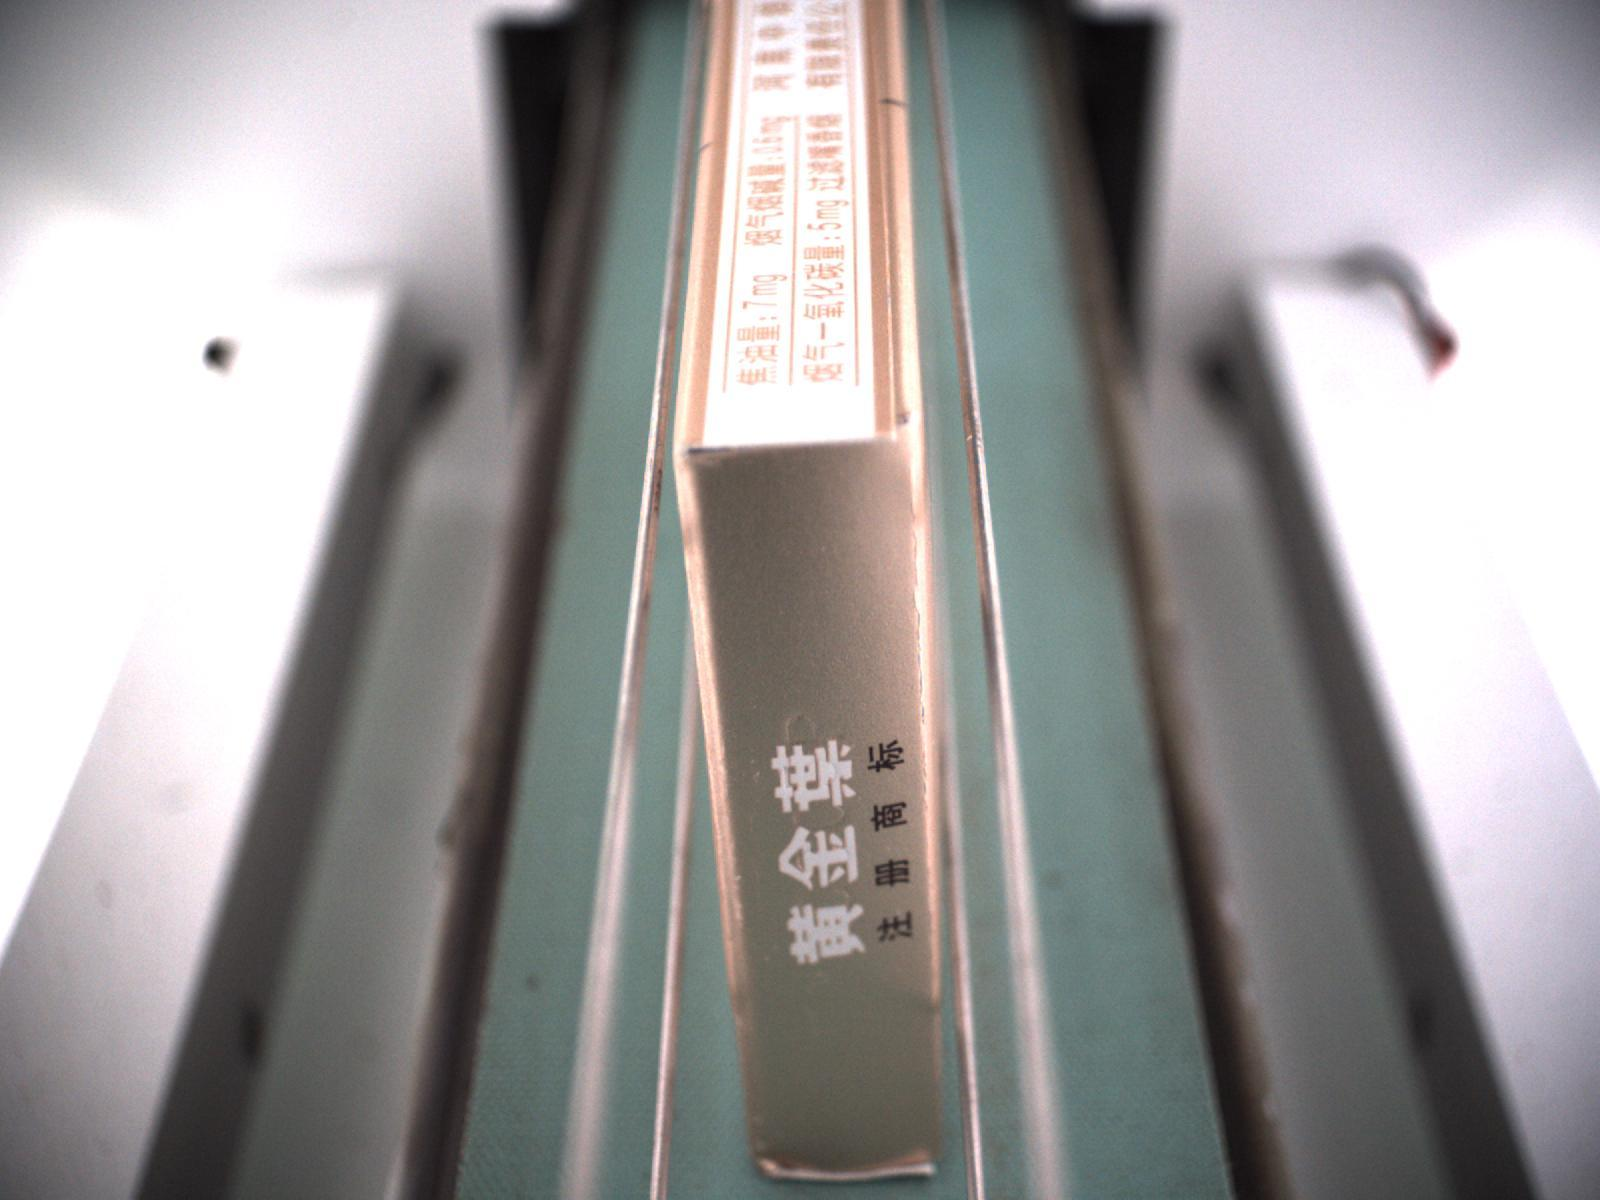skewed_bottom_3: (753, 1148, 944, 1186)
skewed_upper_3: (862, 1, 923, 449)
